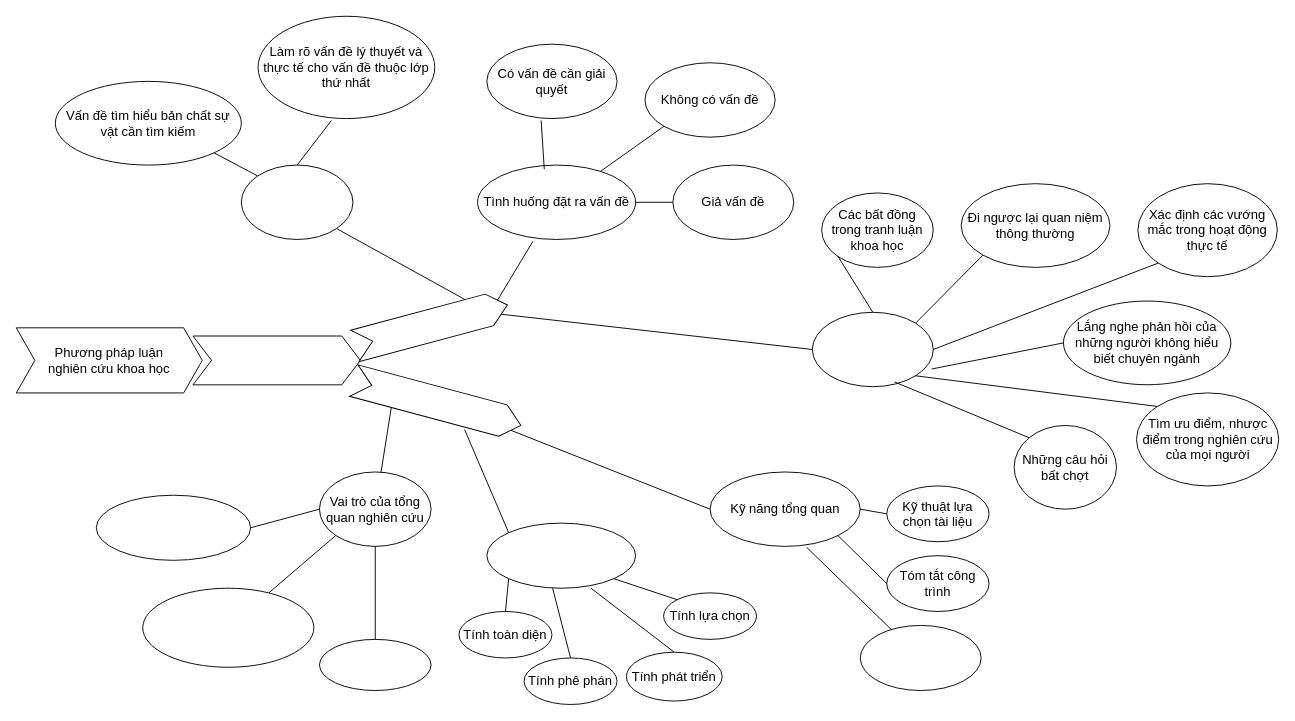
Some shapes in this 1295 by 721 pixel diagram are drawn without their labels. The centre of each missing label's shape, as x and y in pixels:
Các phương pháp phát hiện vấn đề: point (872, 349)
Các yêu cầu với tổng quan nghiên cứu: point (561, 555)
Phát hiện vấn đề nghiên cứu: point (430, 325)
Phân lớp vấn đề nghiên cứu: point (296, 201)
Quy trình nghiên cứu khoa học: point (276, 360)
Tổng hợp những công trình đã đọc: point (920, 657)
Tổng hợp những nghiên cứu trước: point (173, 527)
Tổng quan nghiên cứu: point (436, 402)
Xác định khoảng trống tri thức là tiền đề cho nghiên cứu mới: point (228, 627)
Định hướng nghiên cứu mới: point (375, 664)
